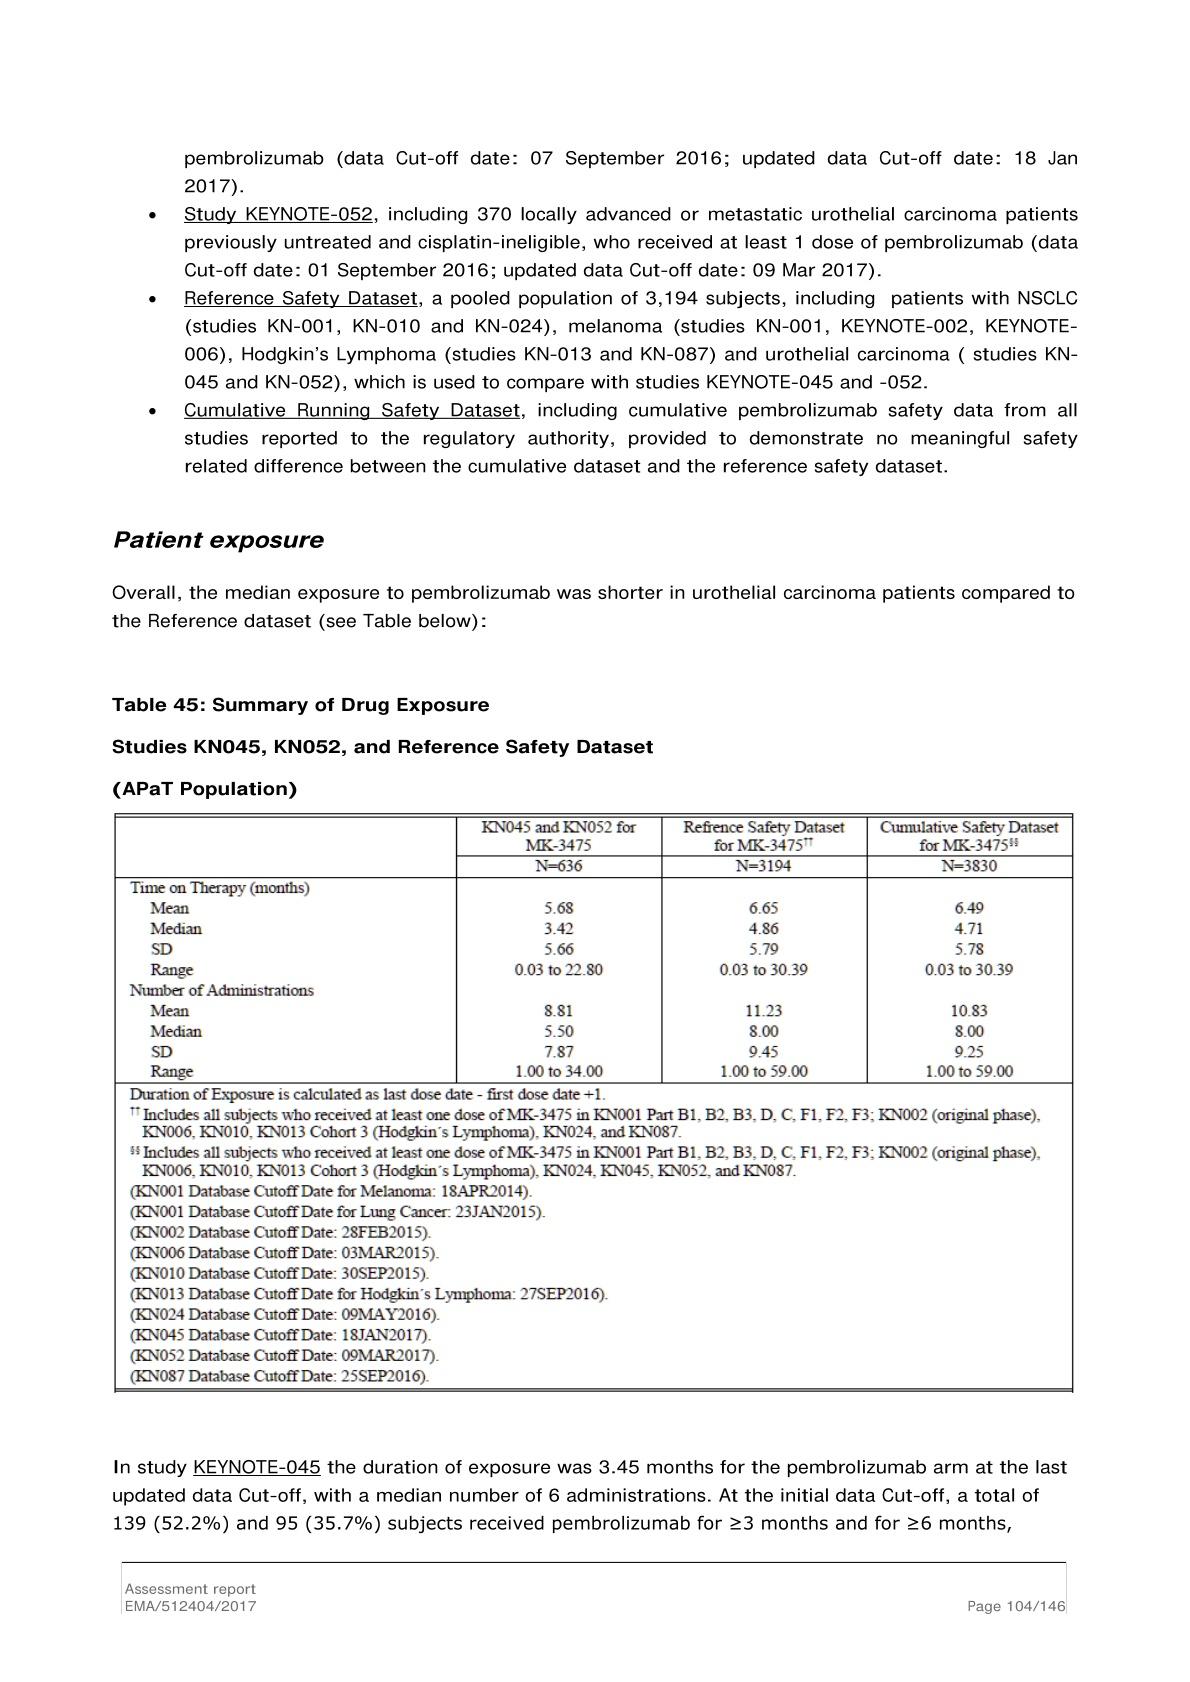merged_cells: (113, 811, 1075, 1394)
